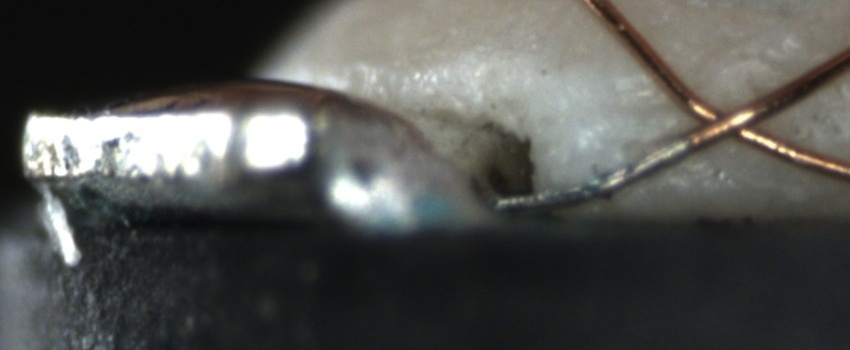CL: (681, 90, 784, 154)
TS: (493, 135, 692, 212)
